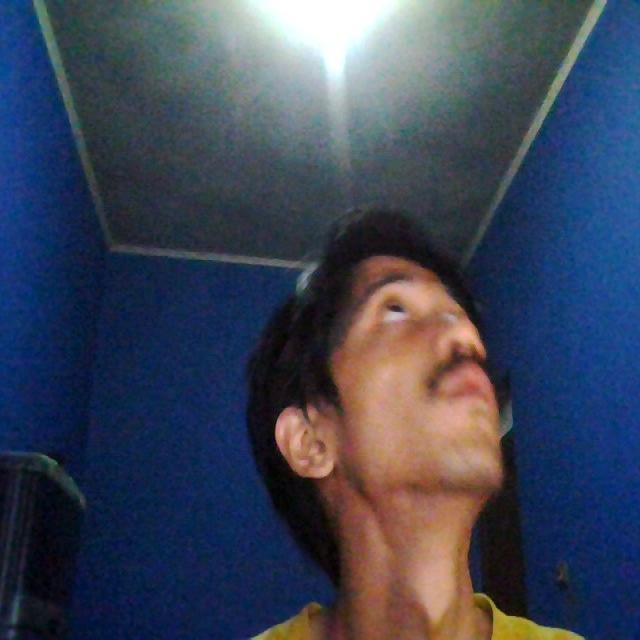Melihat keatas: (197, 203, 548, 552)
